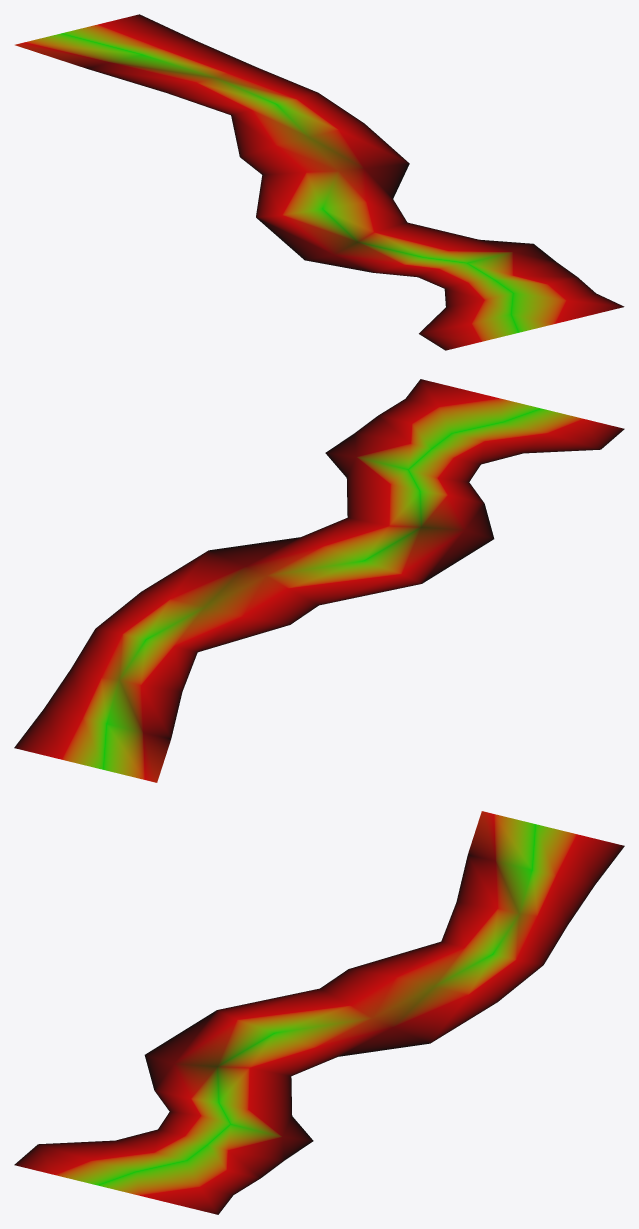
Rendered from Section_WayLine02_MountainsSnow_Terrain.fbx.
3 renders of one model, top to bottom at view 1: azimuth 30°, elevation 25°; view 2: azimuth 150°, elevation 25°; view 3: azimuth 330°, elevation 25°, orthographic. The views are drawn at different scales.
Parts seen in each view (by area): view 1: Section_WayLine02_MountainsSnow_Terrain; view 2: Section_WayLine02_MountainsSnow_Terrain; view 3: Section_WayLine02_MountainsSnow_Terrain.
Boxes of the visible parts, x1,y1,x2,y2 form: Section_WayLine02_MountainsSnow_Terrain: (15,14,624,350); Section_WayLine02_MountainsSnow_Terrain: (14,379,624,782); Section_WayLine02_MountainsSnow_Terrain: (14,811,624,1214).
Bounding box in the file's own units: 1320 × 0 × 5000.
